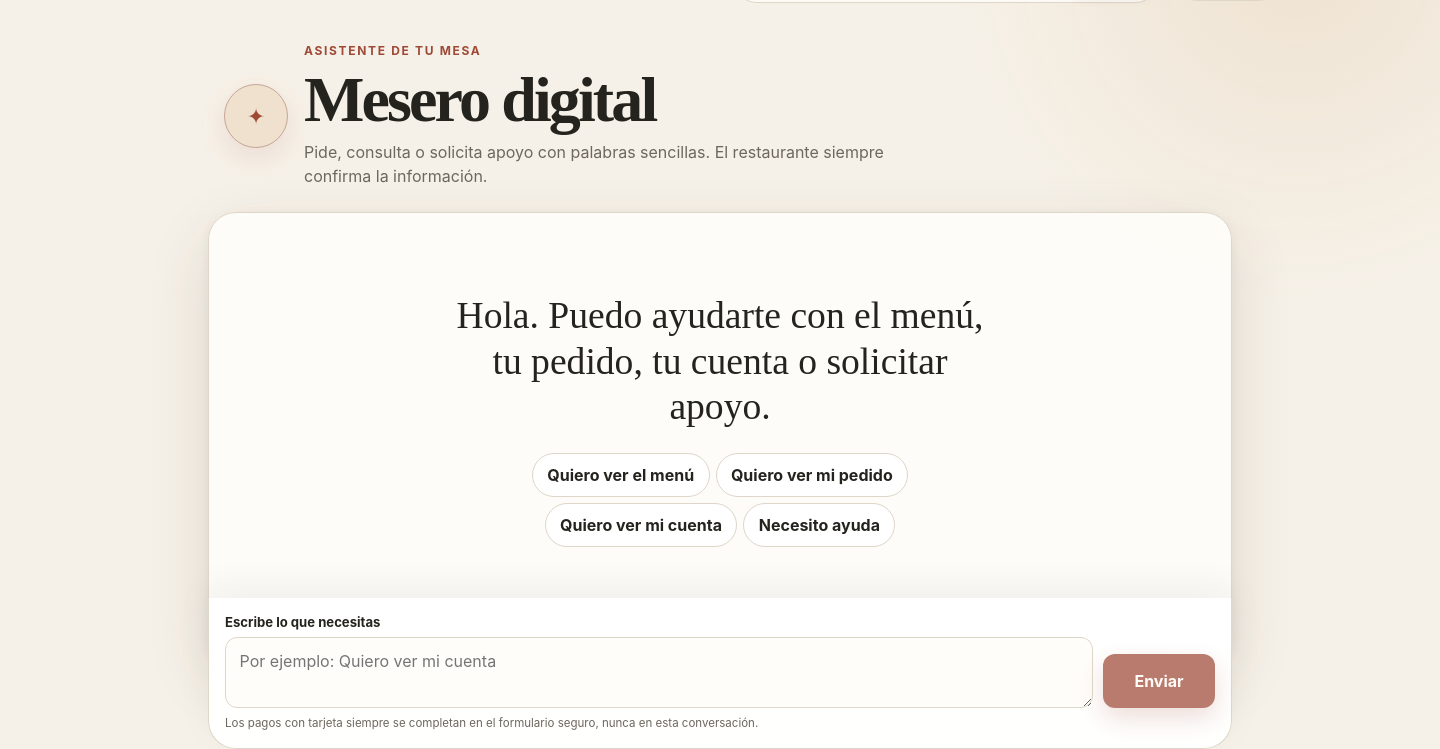
Test: Digital Waiter UI › renders unavailable and staff-assistance results without inventing domain outcomes
The image size is (1440, 749).
Check: the heading "Mesero digital" is shown, box [304, 64, 655, 135]
Type "Quiero un producto agotado" into the text box labelled "Escribe lo que necesitas".
click(659, 672); type("Quiero un producto agotado")  # box [225, 637, 1093, 708]
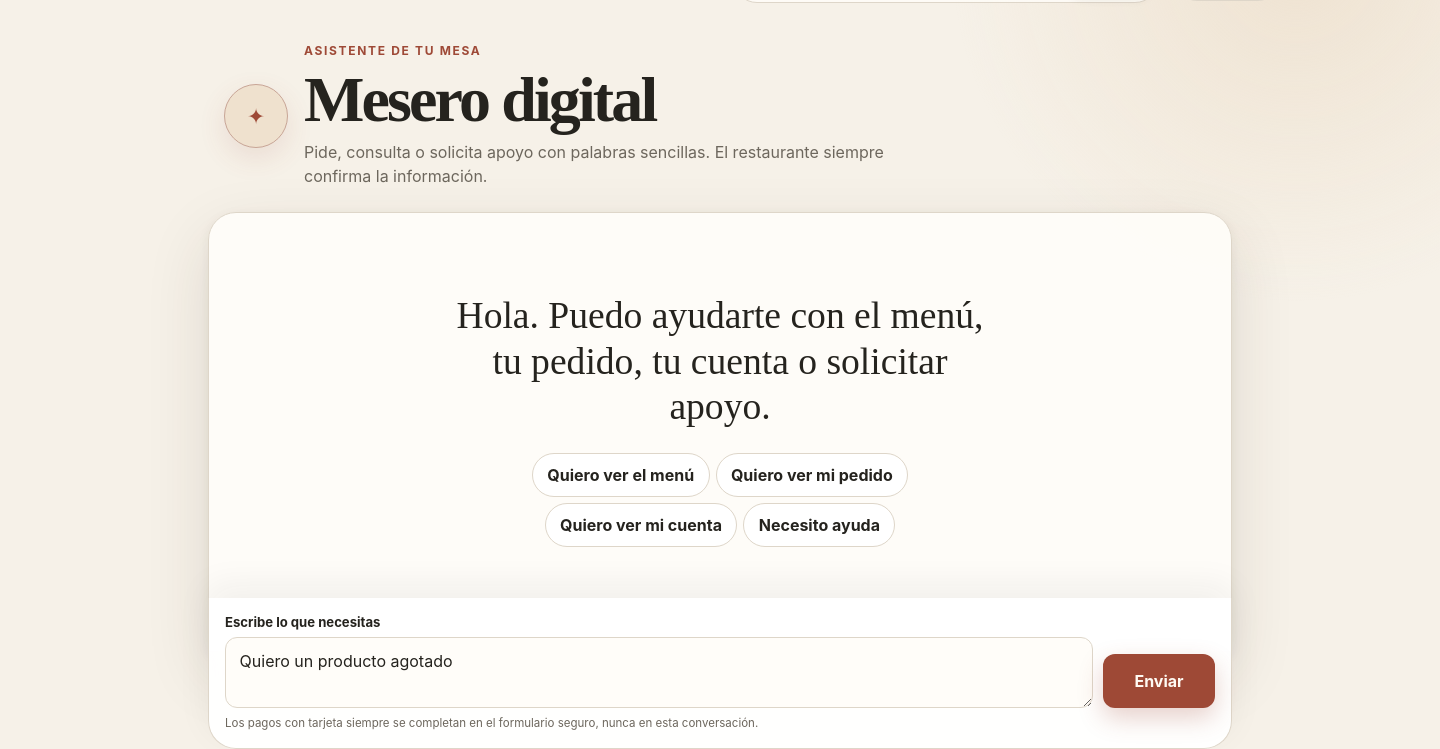
Click the button "Enviar".
click(1159, 681)  # box [1103, 654, 1215, 708]
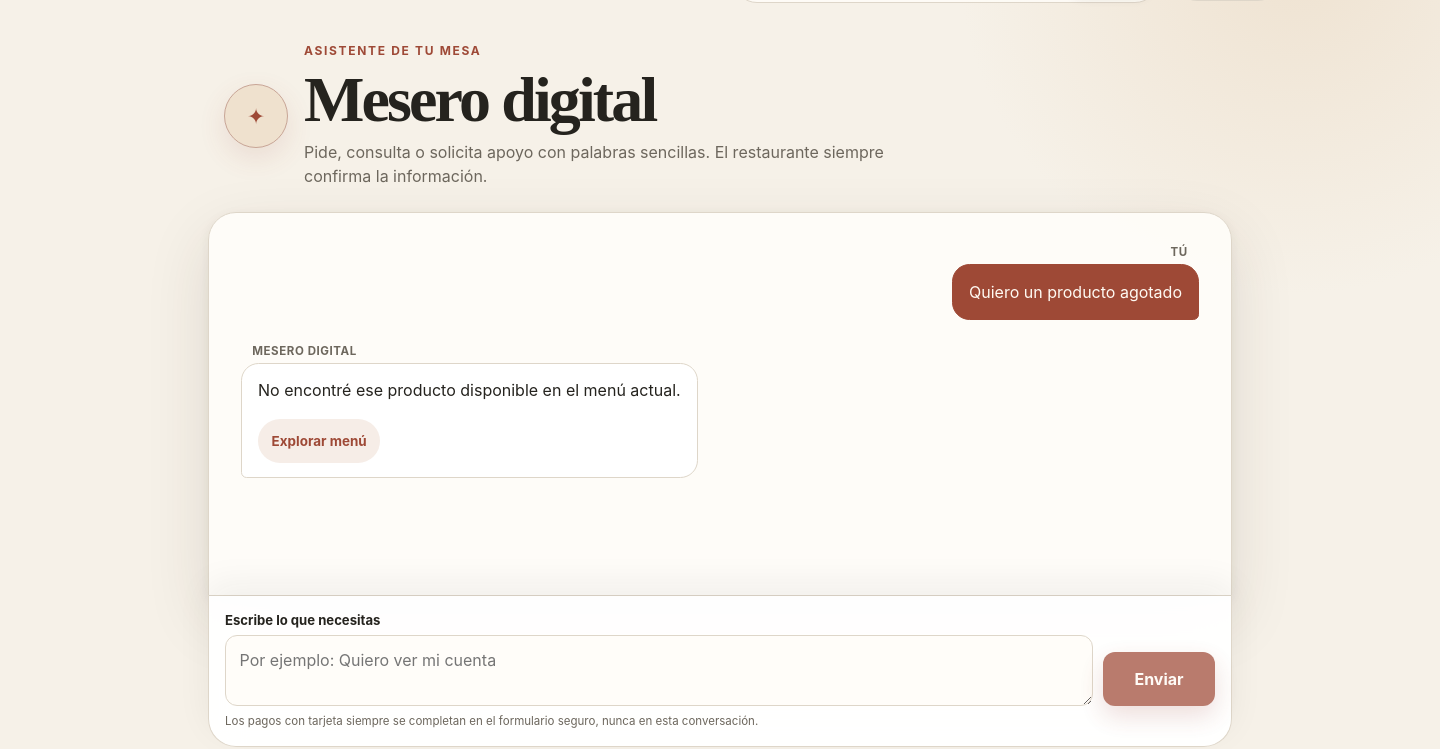
Type "Necesito ayuda" into the text box labelled "Escribe lo que necesitas".
click(659, 671); type("Necesito ayuda")  # box [225, 636, 1093, 706]
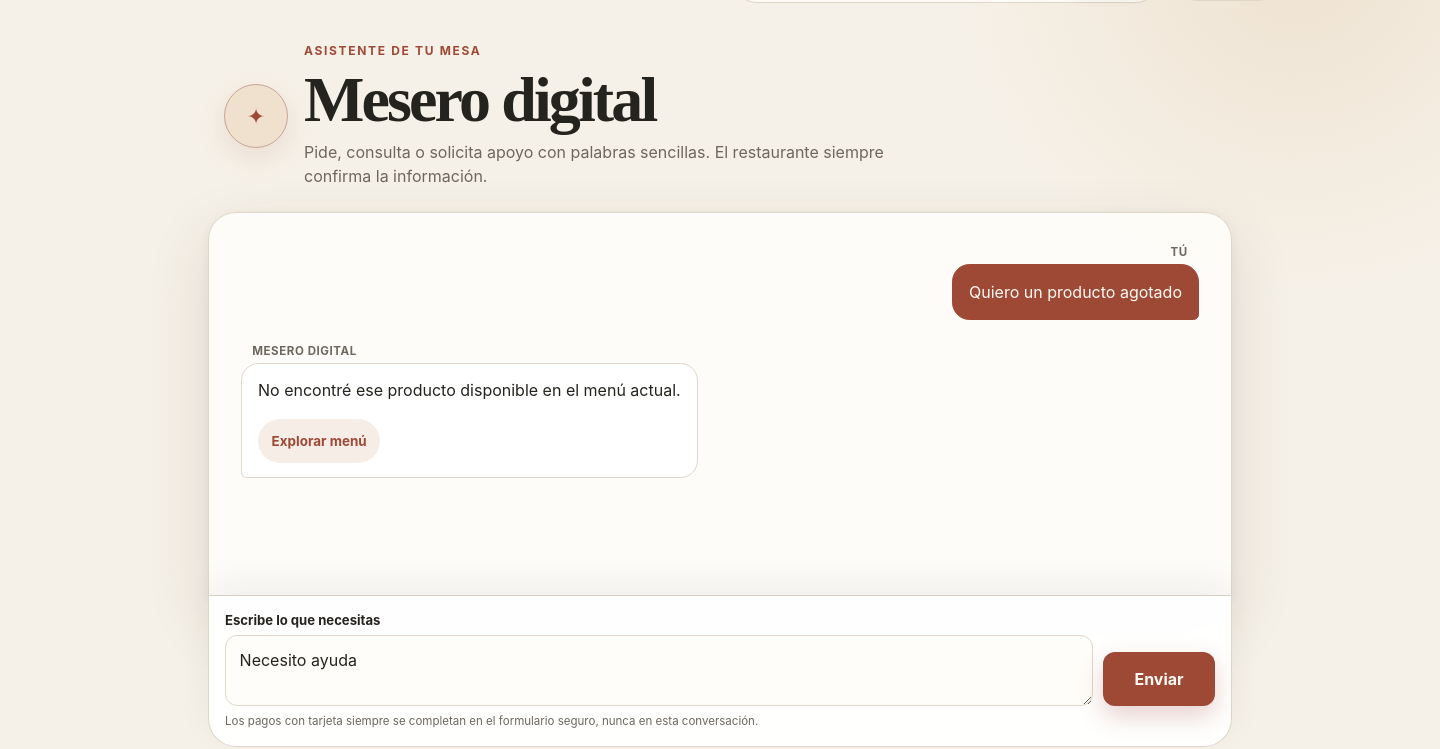
Click the button "Enviar".
click(1159, 679)  # box [1103, 652, 1215, 706]
(page scrolled)
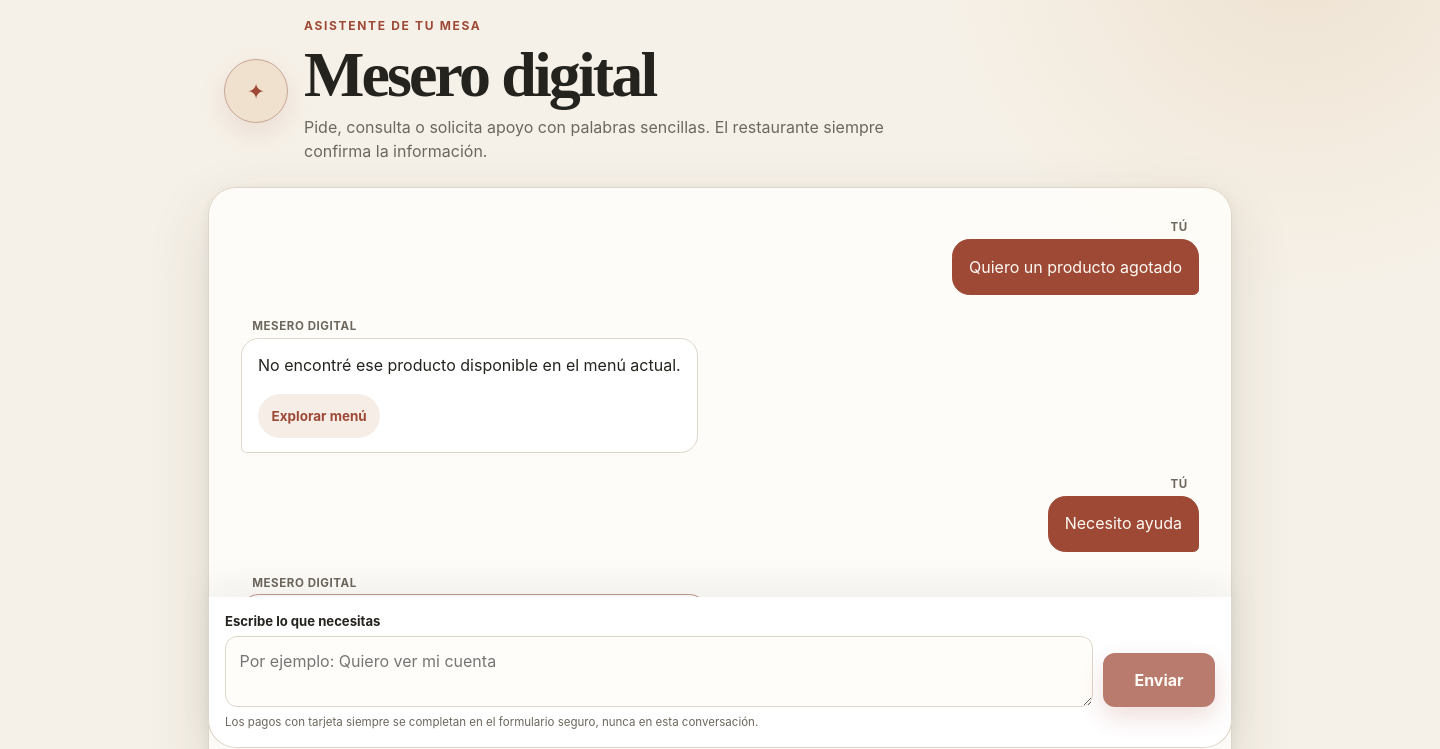
Check: the text "Solicitud registrada" is shown, box [258, 668, 410, 688]
Check: the text "Estado: PENDING" is shown, box [258, 693, 369, 709]
Check: the text "Tu solicitud fue registrada para el equipo del restaurante." is shown, box [258, 610, 690, 634]
